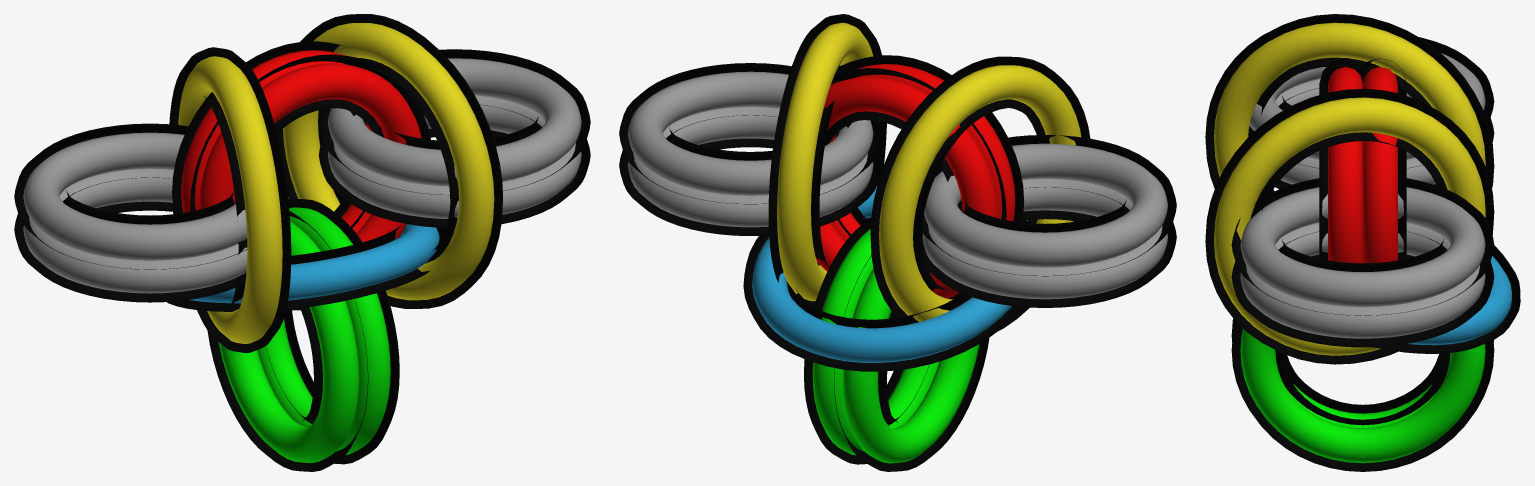
Rendered from bweg_step_06.glb.
3 views of the same model, side by side, from view 1: azimuth 30°, elevation 25°; view 2: azimuth 150°, elevation 25°; view 3: azimuth 270°, elevation 25° (orthographic). The views are drawn at different scales.
Parts seen in each view (by area): view 1: Torus.011, Torus.010, Torus.006, Torus.009, Torus.003, Torus.007, Torus.002, Torus.001, Torus.008, Torus.012, Torus; view 2: Torus.010, Torus.006, Torus.009, Torus.011, Torus.012, Torus.007, Torus.008, Torus.003, Torus, Torus.002, Torus.001; view 3: Torus.011, Torus.009, Torus.010, Torus.002, Torus.008, Torus.001, Torus, Torus.012, Torus.003, Torus.006, Torus.007.
Boxes of the visible parts, x1,y1,x2,y2 form: Torus.011: (277, 14, 502, 308); Torus.010: (169, 47, 291, 353); Torus.006: (14, 123, 247, 269); Torus.009: (319, 49, 590, 195); Torus.003: (207, 211, 368, 471); Torus.007: (14, 168, 247, 302); Torus.002: (257, 198, 399, 464); Torus.001: (190, 54, 430, 310); Torus.008: (319, 95, 590, 228); Torus.012: (166, 224, 445, 311); Torus: (172, 41, 379, 233); Torus.010: (870, 56, 1090, 331); Torus.006: (921, 135, 1176, 276); Torus.009: (619, 63, 882, 204); Torus.011: (768, 14, 886, 306); Torus.012: (743, 171, 1028, 371); Torus.007: (916, 178, 1176, 307); Torus.008: (619, 106, 881, 235); Torus.003: (834, 255, 989, 471); Torus: (816, 68, 1006, 299); Torus.002: (804, 217, 938, 464); Torus.001: (829, 55, 1024, 240); Torus.011: (1205, 88, 1494, 364); Torus.009: (1231, 178, 1494, 315); Torus.010: (1205, 14, 1494, 192); Torus.002: (1231, 321, 1494, 471); Torus.008: (1231, 223, 1494, 347); Torus.001: (1319, 58, 1368, 263); Torus: (1357, 58, 1406, 263); Torus.012: (1374, 245, 1520, 353); Torus.003: (1231, 318, 1493, 428); Torus.006: (1248, 37, 1494, 168); Torus.007: (1275, 79, 1494, 189).
Bounding box in the file's own units: 6.88 × 5.14 × 3.6.
